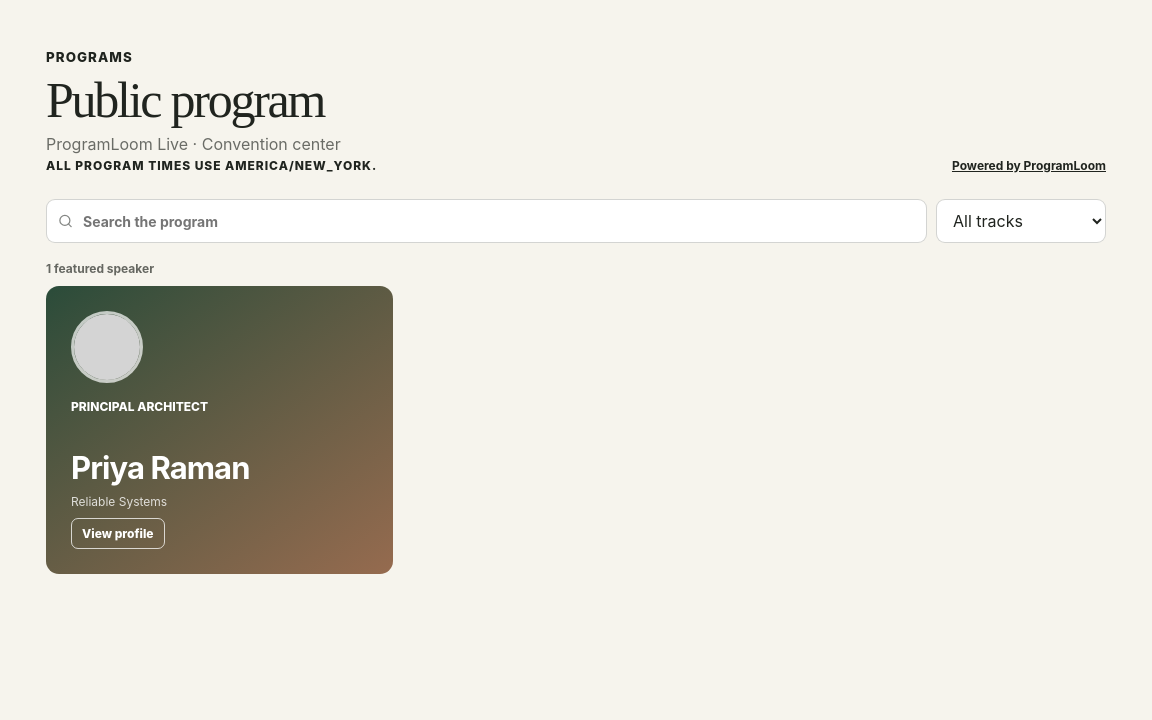
Test case: public widgets › shows searchable speaker profiles and a speaker-centered gallery
Expected: the text "1 featured speaker" is shown, [46,261,154,276]
Expected: the text "Priya Raman" below "featured" is shown, [46,286,393,574]
Click the button "View profile": (118, 534) [71,518,164,549]
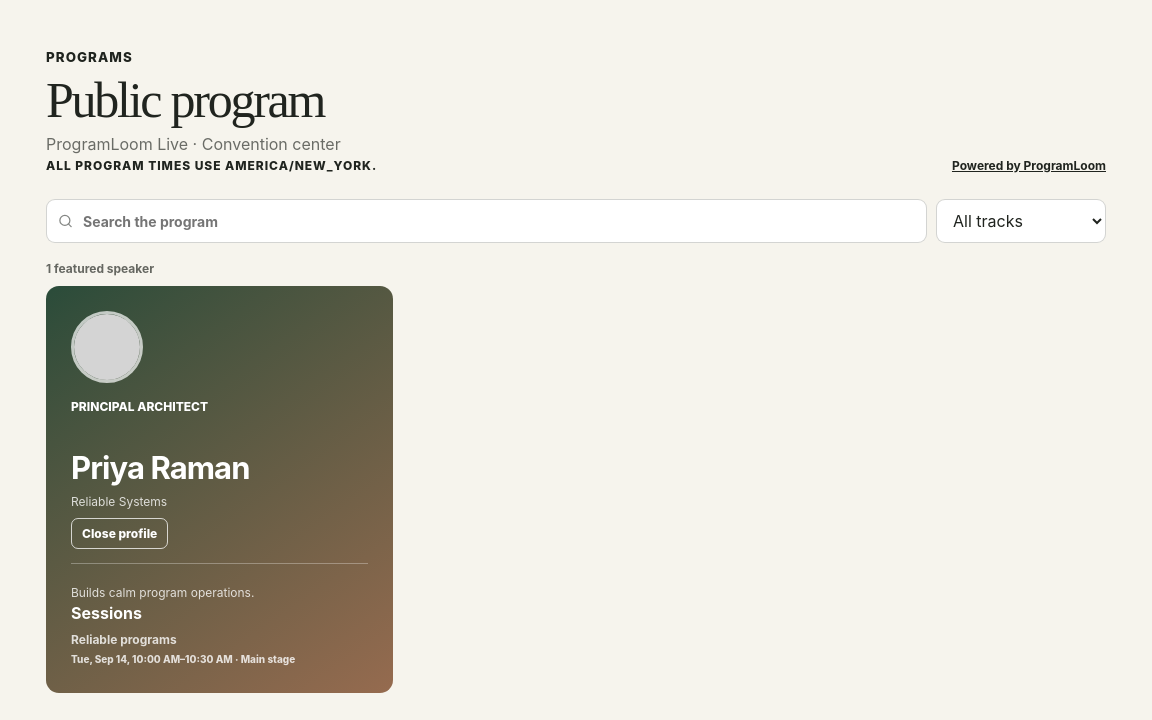
Now the text "Builds calm program operations." is shown, box [71,585,254,600]
Now the text "Reliable programs" is shown, box [71,632,177,647]
Now the text "Tue, Sep 14, 10:00 AM–10:30 AM · Main stage" is shown, box [71,653,295,665]
